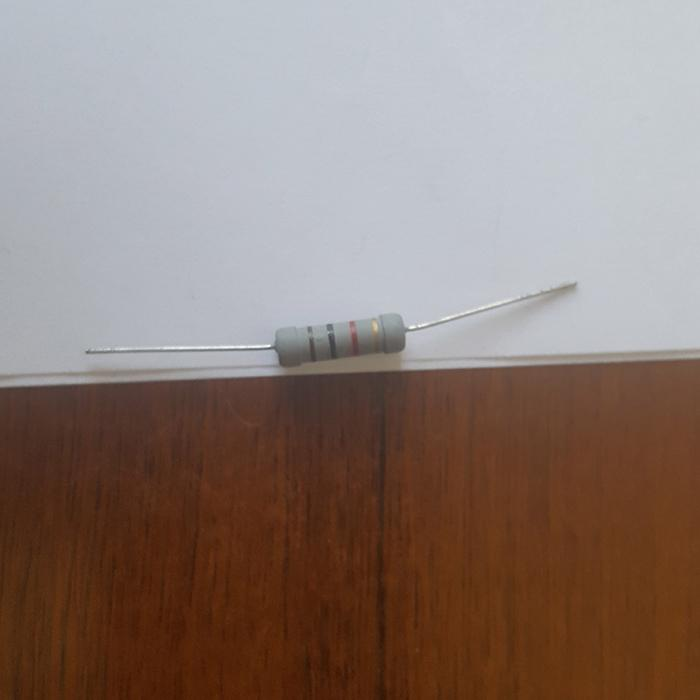resistor: (271, 311, 406, 367)
